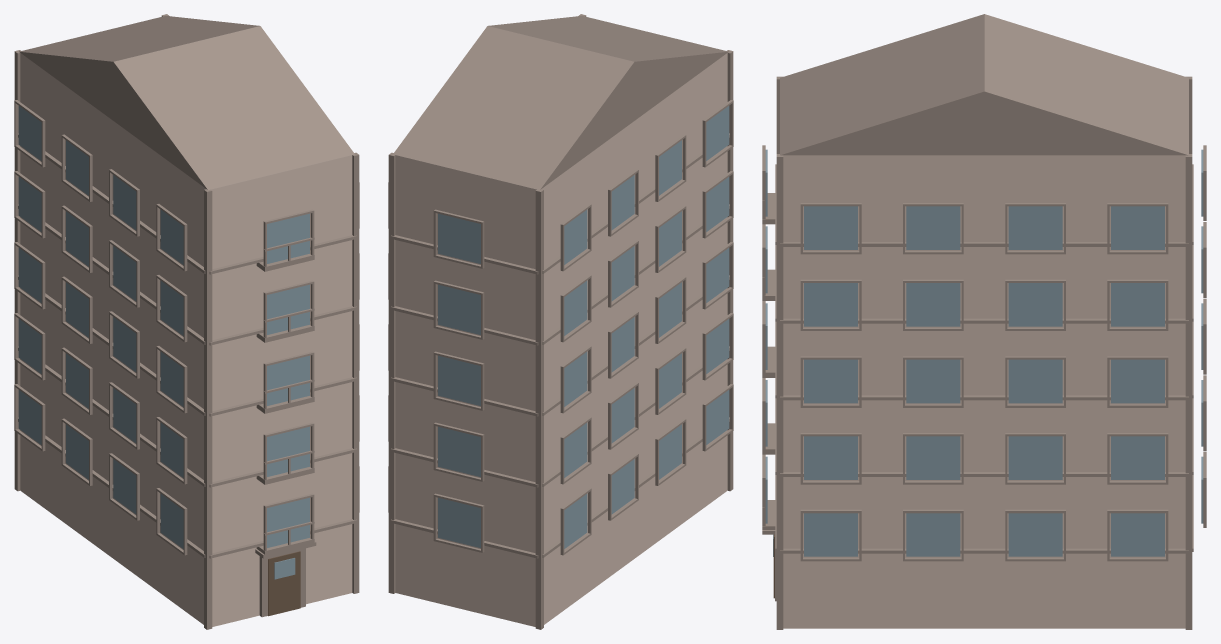
File: lot_1x2.glb
The picture shows the model from 3 angles, left to right: view 1: azimuth 30°, elevation 25°; view 2: azimuth 150°, elevation 25°; view 3: azimuth 270°, elevation 25°; orthographic projection. The views are drawn at different scales.
Parts seen in each view (by area): view 1: lot_1x2; view 2: lot_1x2; view 3: lot_1x2.
Boxes of the visible parts, x1,y1,x2,y2 form: lot_1x2: [14, 14, 359, 629]; lot_1x2: [388, 14, 733, 629]; lot_1x2: [762, 14, 1206, 629].
Size of the model in its own units: 7.74 by 21 by 15.74.
